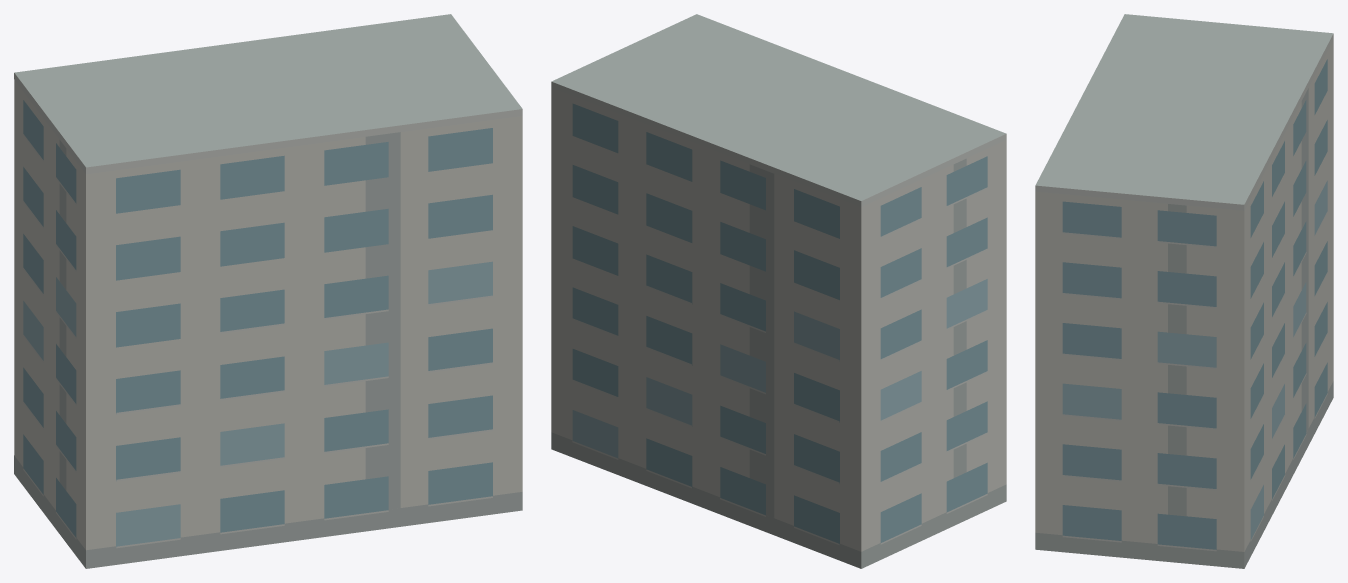
The model's file is survey-upis-33006559.glb.
3 views of the same model, side by side, from view 1: azimuth 30°, elevation 25°; view 2: azimuth 150°, elevation 25°; view 3: azimuth 270°, elevation 25° (orthographic). The views are drawn at different scales.
Parts seen in each view (by area): view 1: survey-upis-33006559.tmp; view 2: survey-upis-33006559.tmp; view 3: survey-upis-33006559.tmp.
Part boxes in pixels (left/top/right/bottom): survey-upis-33006559.tmp: left=14, top=14, right=522, bottom=568; survey-upis-33006559.tmp: left=551, top=14, right=1006, bottom=568; survey-upis-33006559.tmp: left=1035, top=14, right=1333, bottom=568.
Size of the model in its own units: 16.3 by 14.5 by 10.78.
